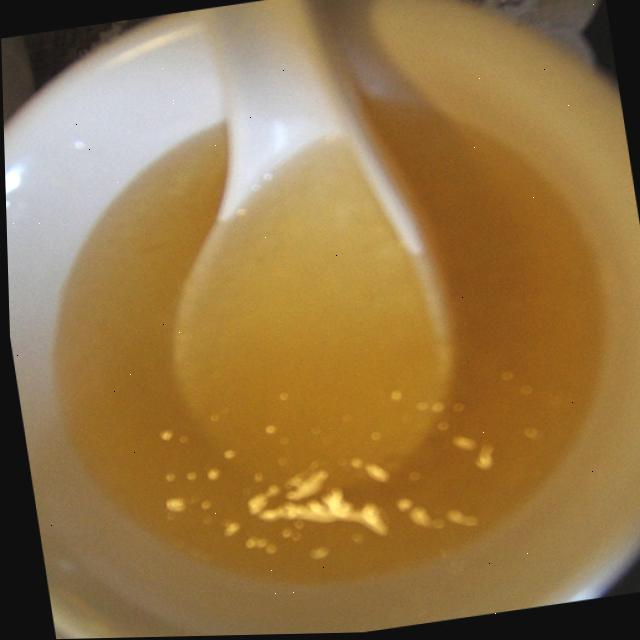蛋糕甜品: (14, 54, 635, 612)
